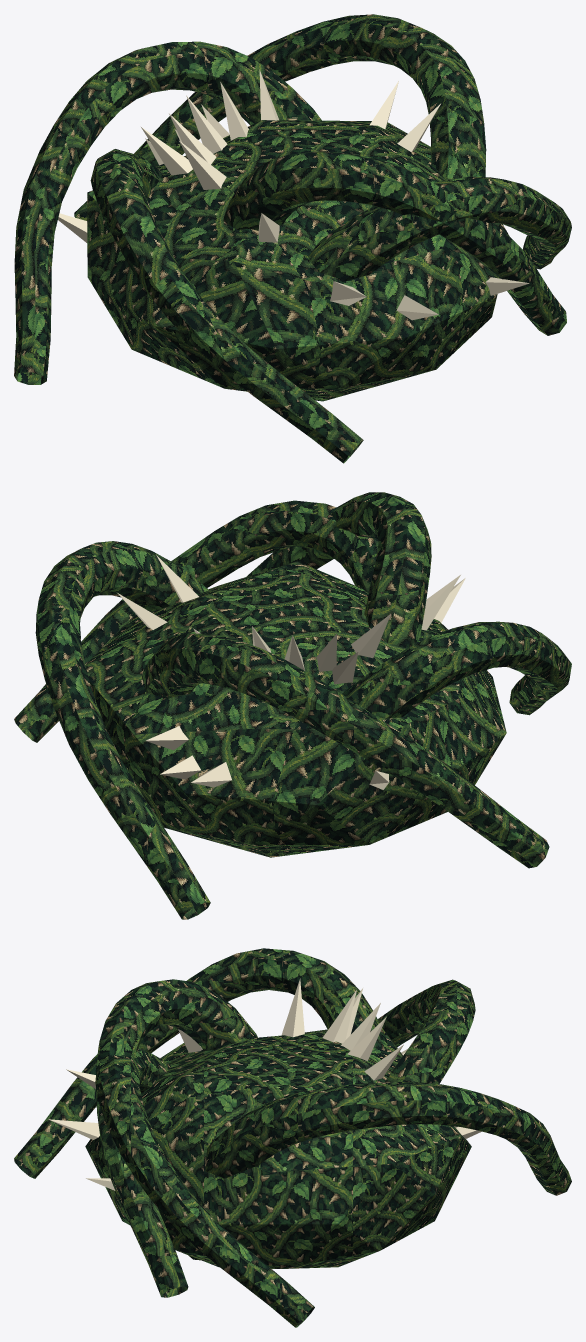
The model's file is sanct_bramble.glb.
The picture shows the model from 3 angles, top to bottom: view 1: azimuth 30°, elevation 25°; view 2: azimuth 150°, elevation 25°; view 3: azimuth 270°, elevation 25°; orthographic projection. The views are drawn at different scales.
Visible parts, largest first — view 1: Bramble, Thorns; view 2: Bramble, Thorns; view 3: Bramble, Thorns.
Part boxes in pixels (x1=…): Bramble: x1=14, y1=14, x2=571, y2=463; Thorns: x1=58, y1=70, x2=529, y2=320; Bramble: x1=14, y1=492, x2=571, y2=919; Thorns: x1=117, y1=555, x2=465, y2=789; Bramble: x1=14, y1=948, x2=571, y2=1327; Thorns: x1=48, y1=978, x2=481, y2=1190.
Size of the model in its own units: 3.7 by 1.84 by 3.75.
Materials: 2 (1 with a texture image).
